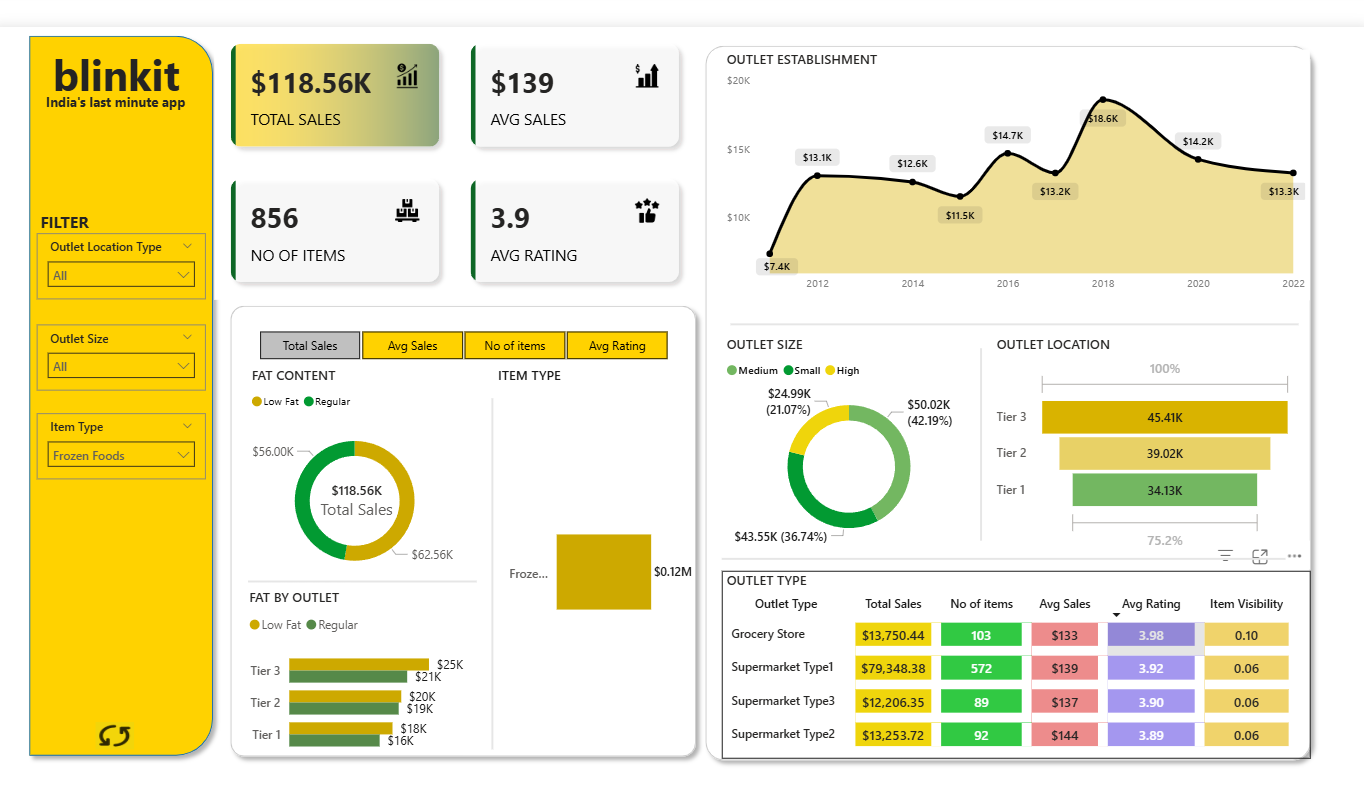

Layout of this report page (visuals, bound fields, positions):
{"tool":"powerbi","page":{"name":"Page 1","canvas":[1400,800],"ordinal":0},"visuals":[{"type":"shape","box":[28,0,204.8,750.4],"z":0},{"type":"cardVisual","fields":{"Data":["BlinkIT Grocery Data.Total Sales","BlinkIT Grocery Data.Avg Sales","BlinkIT Grocery Data.No of items","BlinkIT Grocery Data.Avg Rating"]},"box":[225,0,491.2,277.5],"z":1000},{"type":"shape","box":[232.8,274.2,491.4,476.6],"z":2000},{"type":"donutChart","title":"FAT CONTENT","fields":{"Y":["BlinkIT Grocery Data.Total Sales"],"Category":["BlinkIT Grocery Data.Item Fat Content"]},"box":[258.8,345,220,230],"z":3000},{"type":"slicer","fields":{"Values":["Metrics.Metrics"]},"box":[245.8,302.8,464.8,42.3],"z":4000},{"type":"cardVisual","fields":{"Data":["BlinkIT Grocery Data.Total Sales"]},"box":[315,443.3,109.2,75.8],"z":5000},{"type":"clusteredBarChart","title":"FAT BY OUTLET","fields":{"Y":["BlinkIT Grocery Data.Total Sales"],"Category":["BlinkIT Grocery Data.Outlet Location Type"],"Series":["BlinkIT Grocery Data.Item Fat Content"]},"box":[255.6,571,239.1,180.6],"z":6000},{"type":"shape","box":[259.1,553.6,232.7,21.8],"z":7000},{"type":"shape","box":[498.2,378.2,19.1,357.3],"z":8000},{"type":"barChart","title":"ITEM TYPE","fields":{"Y":["BlinkIT Grocery Data.Total Sales"],"Category":["BlinkIT Grocery Data.Item Type"]},"box":[508.8,345,207.5,398.8],"z":9000},{"type":"shape","box":[716.2,10,633.8,745],"z":10000},{"type":"lineChart","title":"OUTLET ESTABLISHMENT","fields":{"Y":["BlinkIT Grocery Data.Total Sales"],"Category":["BlinkIT Grocery Data.Outlet Establishment Year"]},"box":[741.2,22.5,598.8,255],"z":11000},{"type":"shape","box":[750,293,578,20],"z":12000},{"type":"slicer","title":"OUTLET SIZE","fields":{"Values":["BlinkIT Grocery Data.Outlet Location Type"]},"box":[44.5,209.8,171.7,67.4],"z":13000},{"type":"funnel","title":"OUTLET LOCATION","fields":{"Y":["Sum(BlinkIT Grocery Data.Sales)"],"Category":["BlinkIT Grocery Data.Outlet Location Type"]},"box":[1016.2,312.5,311.2,225],"z":14000},{"type":"shape","box":[997.1,326.9,16.4,195.8],"z":15000},{"type":"pivotTable","title":"OUTLET TYPE","fields":{"Rows":["BlinkIT Grocery Data.Outlet Type"],"Values":["BlinkIT Grocery Data.Total Sales","BlinkIT Grocery Data.No of items","BlinkIT Grocery Data.Avg Sales","BlinkIT Grocery Data.Avg Rating","Avg(BlinkIT Grocery Data.Item Visibility)"]},"box":[741.5,553.2,599,190.8],"z":16000},{"type":"shape","box":[741.5,529.1,573.6,24.2],"z":17000},{"type":"slicer","title":"OUTLET SIZE","fields":{"Values":["BlinkIT Grocery Data.Outlet Size"]},"box":[44.5,302.7,171.7,67.4],"z":18000},{"type":"slicer","title":"OUTLET SIZE","fields":{"Values":["BlinkIT Grocery Data.Item Type"]},"box":[44.5,393,171.7,67.4],"z":19000},{"type":"actionButton","box":[104.3,707.1,39.4,28],"z":20000},{"type":"donutChart","title":"OUTLET SIZE","fields":{"Y":["BlinkIT Grocery Data.Total Sales"],"Category":["BlinkIT Grocery Data.Outlet Size"]},"box":[741.6,312.6,259.2,223.9],"z":21000},{"type":"textbox","box":[38.8,62.6,170.8,32.4],"z":22000},{"type":"textbox","box":[55.7,14.2,148.4,74],"z":23000},{"type":"textbox","box":[43.8,182.5,100,40],"z":24000}]}

Visuals, with their boxes on the page's 1400x800 design canvas (x1, y1, x2, y2). These are canvas units, not pixel positions in the 1364x805 screenshot, which may show the page scaled, cropped or inside an application window:
shape: <region>28, 0, 233, 750</region>
cardVisual - BlinkIT Grocery Data.Total Sales x BlinkIT Grocery Data.Avg Sales: <region>225, 0, 716, 278</region>
shape: <region>233, 274, 724, 751</region>
"FAT CONTENT" donutChart: <region>259, 345, 479, 575</region>
slicer - Metrics.Metrics: <region>246, 303, 711, 345</region>
cardVisual - BlinkIT Grocery Data.Total Sales: <region>315, 443, 424, 519</region>
"FAT BY OUTLET" clusteredBarChart: <region>256, 571, 495, 752</region>
shape: <region>259, 554, 492, 575</region>
shape: <region>498, 378, 517, 736</region>
"ITEM TYPE" barChart: <region>509, 345, 716, 744</region>
shape: <region>716, 10, 1350, 755</region>
"OUTLET ESTABLISHMENT" lineChart: <region>741, 22, 1340, 278</region>
shape: <region>750, 293, 1328, 313</region>
"OUTLET SIZE" slicer: <region>44, 210, 216, 277</region>
"OUTLET LOCATION" funnel: <region>1016, 312, 1327, 538</region>
shape: <region>997, 327, 1014, 523</region>
"OUTLET TYPE" pivotTable: <region>742, 553, 1340, 744</region>
shape: <region>742, 529, 1315, 553</region>
"OUTLET SIZE" slicer: <region>44, 303, 216, 370</region>
"OUTLET SIZE" slicer: <region>44, 393, 216, 460</region>
actionButton: <region>104, 707, 144, 735</region>
"OUTLET SIZE" donutChart: <region>742, 313, 1001, 536</region>
textbox: <region>39, 63, 210, 95</region>
textbox: <region>56, 14, 204, 88</region>
textbox: <region>44, 182, 144, 222</region>
